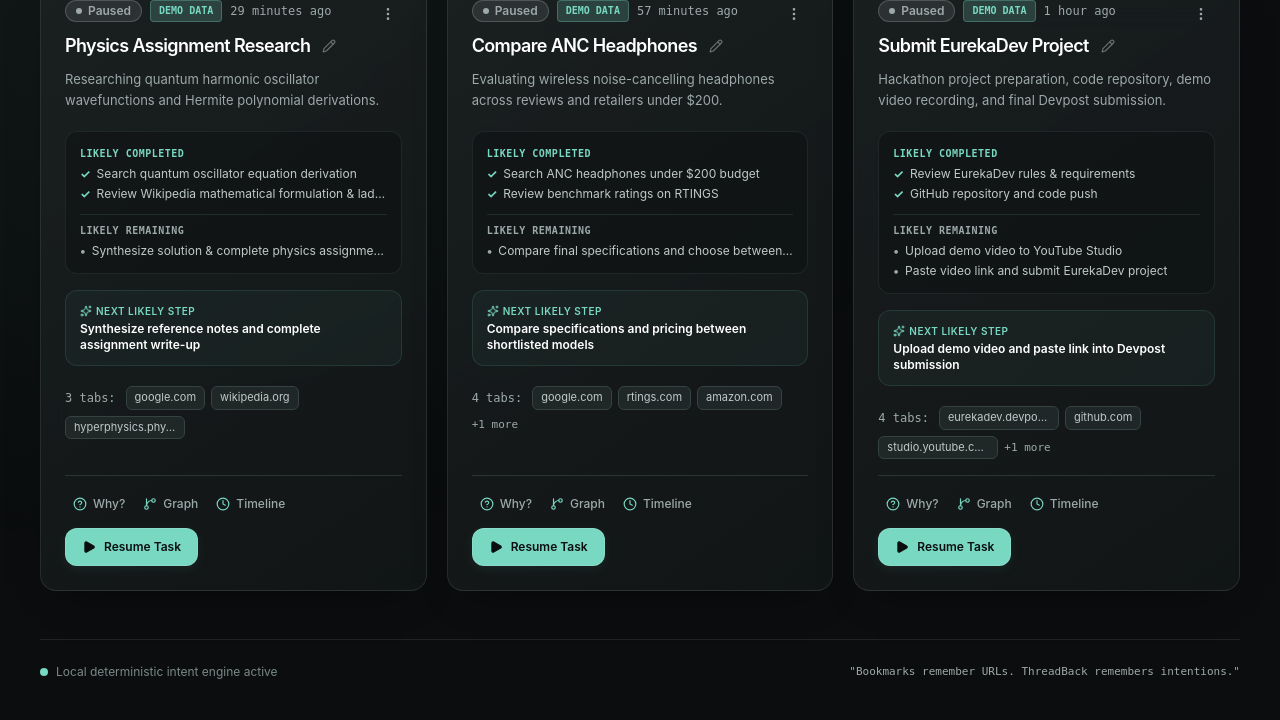
Test case: Phase 9: Dashboard UI Component & Workflow Tests › opens Intent Graph modal when clicking Graph button
The image size is (1280, 720).
(page scrolled)
Check: the heading "Submit EurekaDev Project" is shown, box x1=878 y1=34 x2=1089 y2=59
Click the button titled "Inspect Intent Graph" below "hyperphysics.phy-astr.gsu.edu" at {"x": 171, "y": 504}, box x1=135 y1=488 x2=206 y2=520
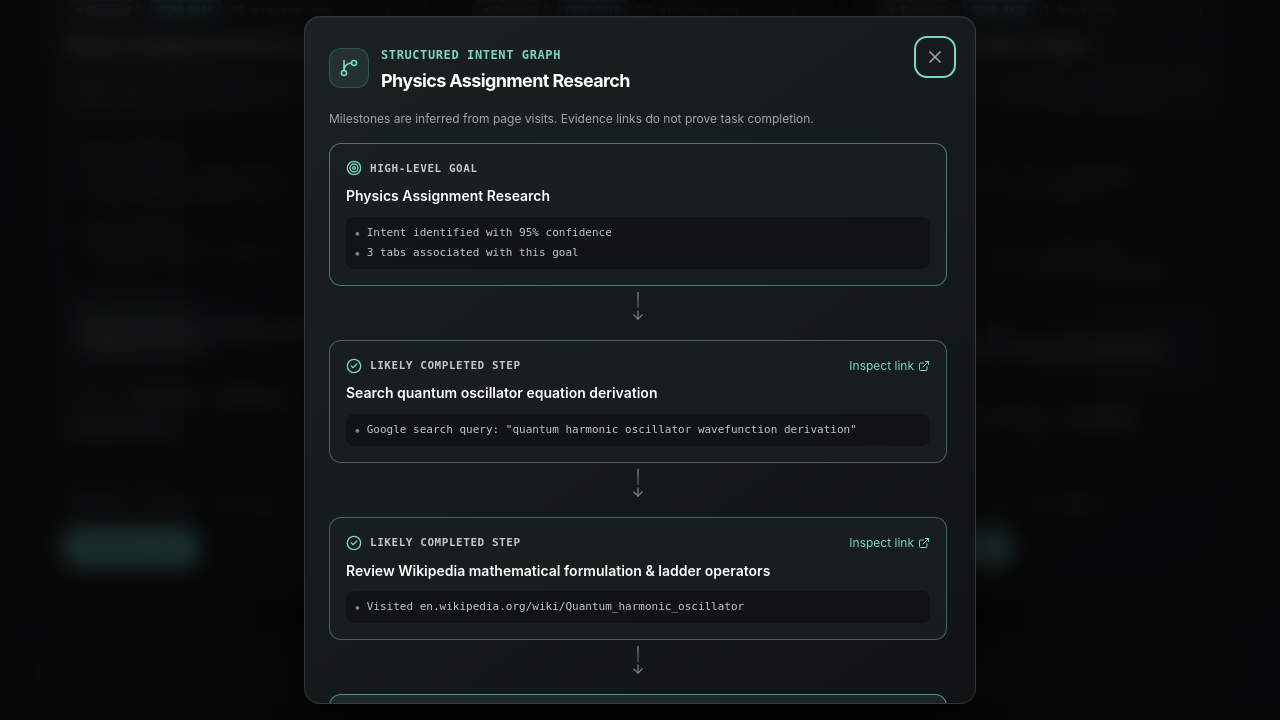
Check: the text "Structured Intent Graph" is shown, box x1=381 y1=48 x2=561 y2=62
